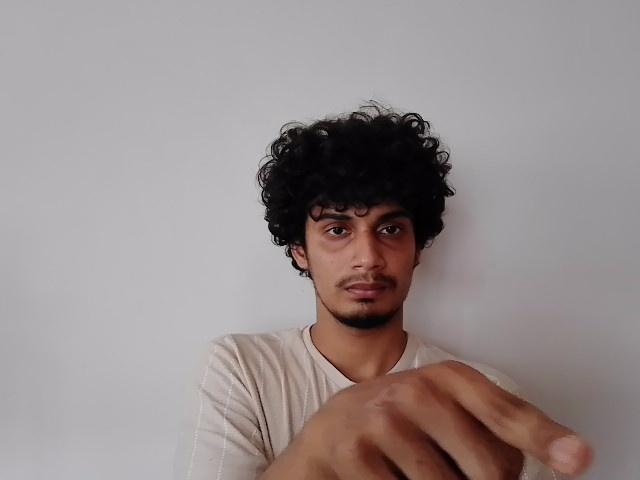you: (312, 360, 593, 480)
